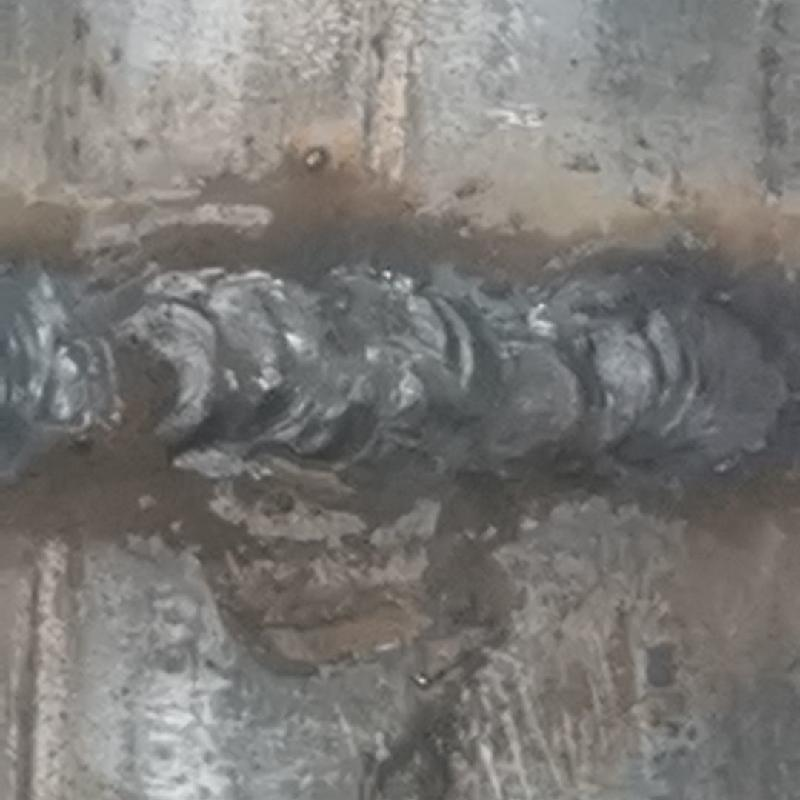good: (2, 255, 799, 507)
